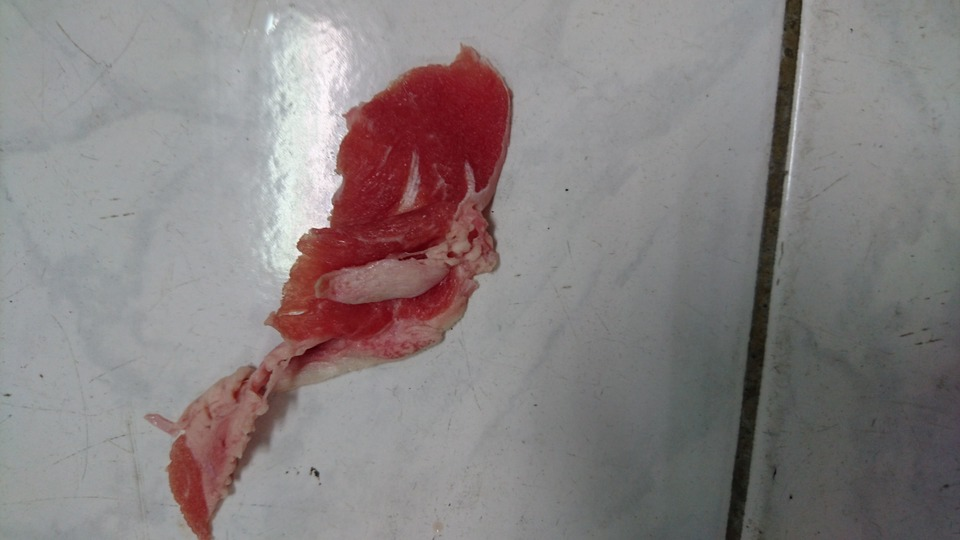restructured meat: (164, 53, 507, 508)
